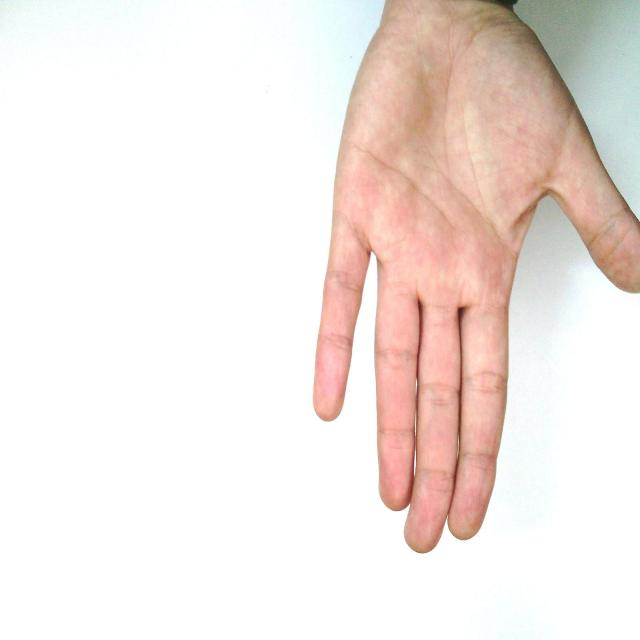others: (223, 1, 640, 558)
